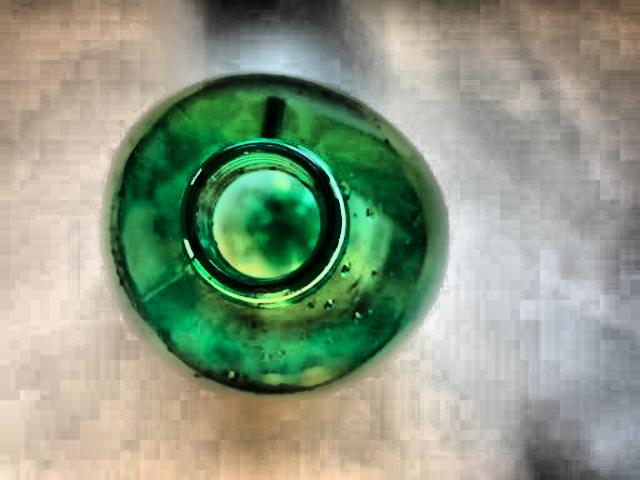Bottles: (82, 49, 479, 402)
